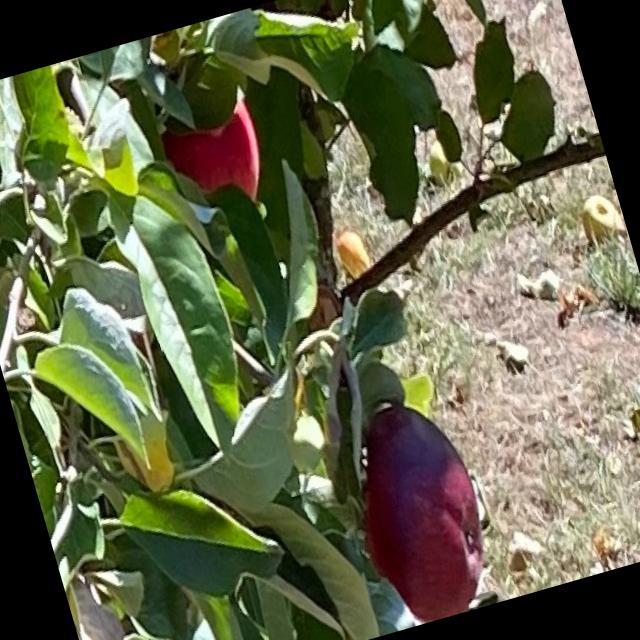Apples: (330, 389, 506, 631), (154, 89, 272, 218)
